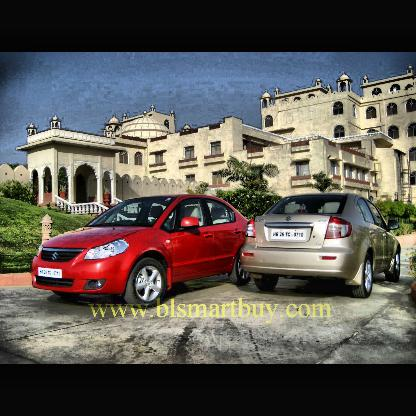Suzuki SX4 Sedan 2012: (27, 194, 256, 287)
